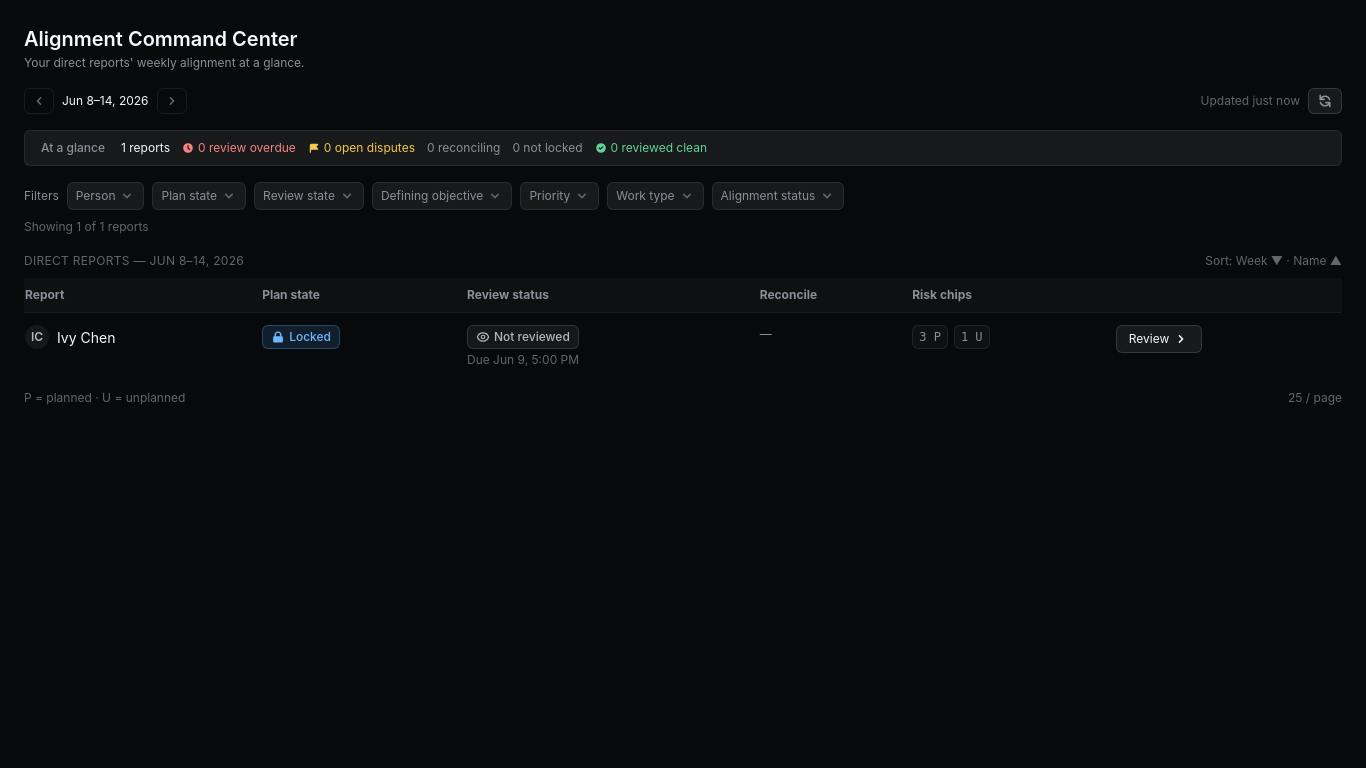
CommandCenter → manager dispute surface (9.14) › manager_review_drawer_renders_report_commitments: the review Drawer renders the report plan commitments via CommitmentList (a row per commitment)
Click the button "Review": (1159,339) [1116,325,1202,353]
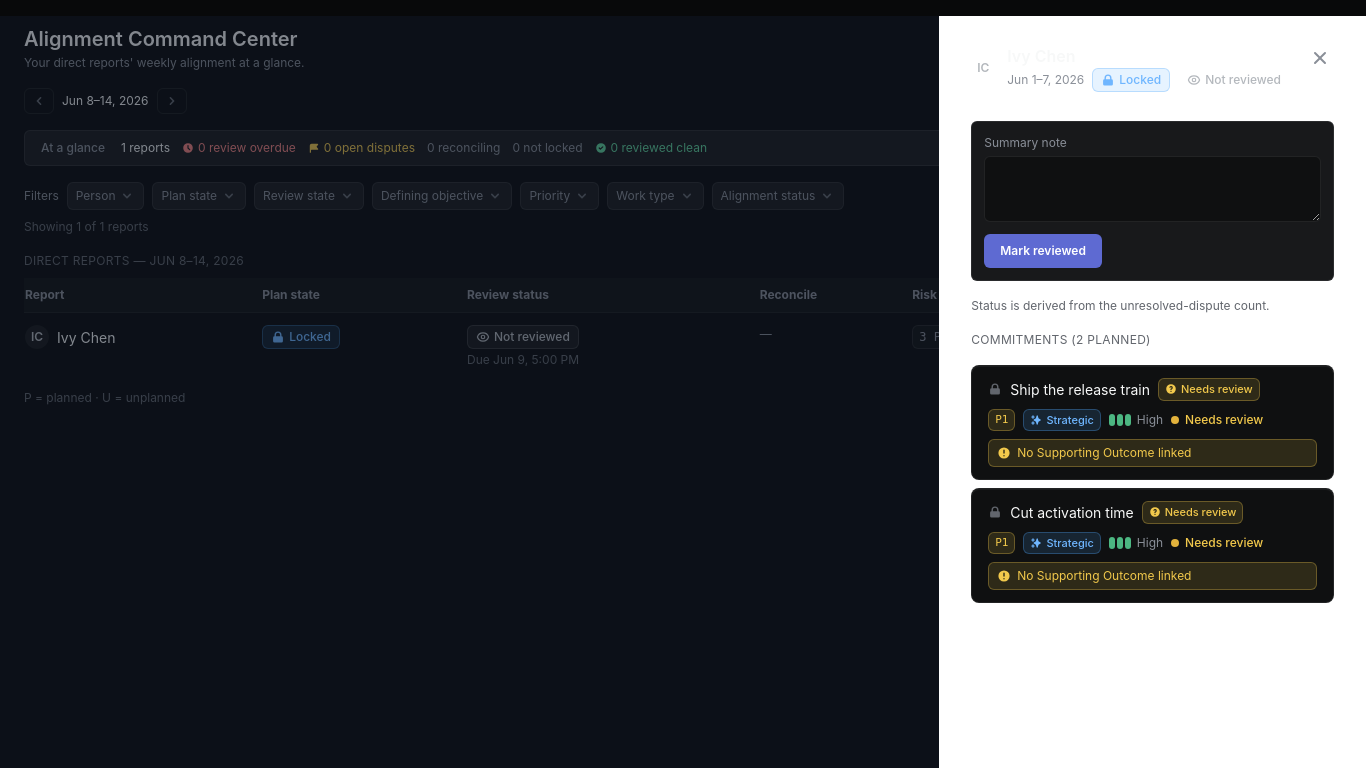
Expected: the list with test id "commitment-list" is shown, [971,365,1334,603]
Expected: the number of list items with test id "commitment-row" is 2, [971,365,1334,480]; [971,488,1334,603]
Expected: the text "Ship the release train" is shown, [1010,379,1150,400]
